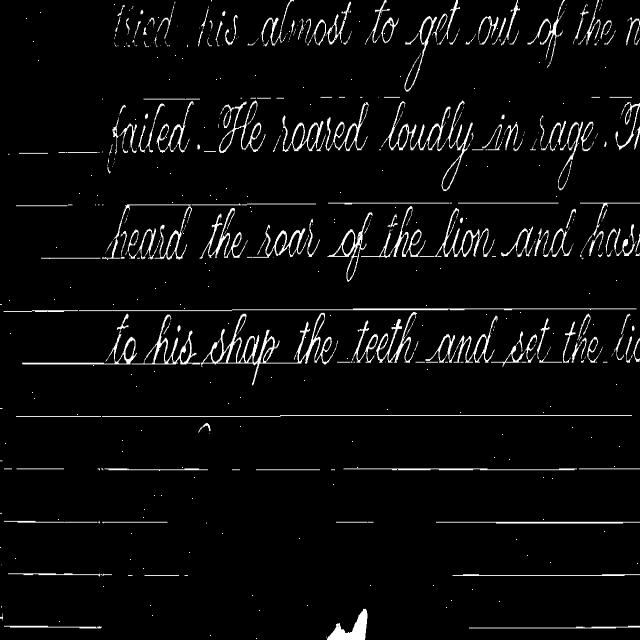hand: (328, 609, 367, 639)
noise: (89, 465, 640, 474), (16, 412, 632, 420), (2, 307, 636, 314), (468, 620, 640, 636), (452, 571, 640, 577), (436, 519, 640, 524), (125, 203, 317, 208), (3, 520, 168, 524), (7, 572, 114, 578), (327, 202, 452, 206), (18, 150, 102, 155), (4, 466, 68, 472), (580, 202, 640, 208), (144, 97, 200, 103), (4, 625, 102, 628), (41, 255, 112, 259), (144, 572, 189, 578), (457, 202, 559, 204), (336, 519, 374, 524), (22, 362, 108, 364), (16, 204, 72, 207), (606, 95, 632, 100), (361, 253, 380, 259), (419, 253, 435, 258), (382, 95, 400, 99), (250, 97, 272, 100), (336, 360, 352, 364), (630, 102, 640, 108), (204, 148, 216, 153), (266, 362, 294, 364), (320, 96, 333, 100), (590, 95, 601, 99), (471, 147, 482, 150), (338, 96, 346, 99), (274, 97, 284, 99)
not-noise: (114, 0, 640, 88), (380, 101, 474, 190), (108, 100, 194, 170), (200, 314, 278, 377), (273, 101, 369, 152), (106, 204, 191, 260), (531, 116, 594, 189), (500, 209, 576, 257), (348, 312, 418, 363), (424, 316, 498, 362), (580, 204, 640, 256), (436, 208, 495, 257), (252, 219, 320, 258), (142, 315, 196, 364), (336, 212, 372, 281), (218, 100, 266, 151), (200, 207, 248, 258), (218, 100, 264, 152), (378, 206, 425, 256), (294, 312, 338, 364), (504, 318, 550, 364), (562, 313, 602, 362), (106, 314, 138, 364), (482, 114, 524, 151), (613, 313, 640, 363), (616, 101, 640, 148), (503, 124, 518, 140), (198, 423, 210, 434), (604, 140, 606, 147), (198, 144, 200, 149)
